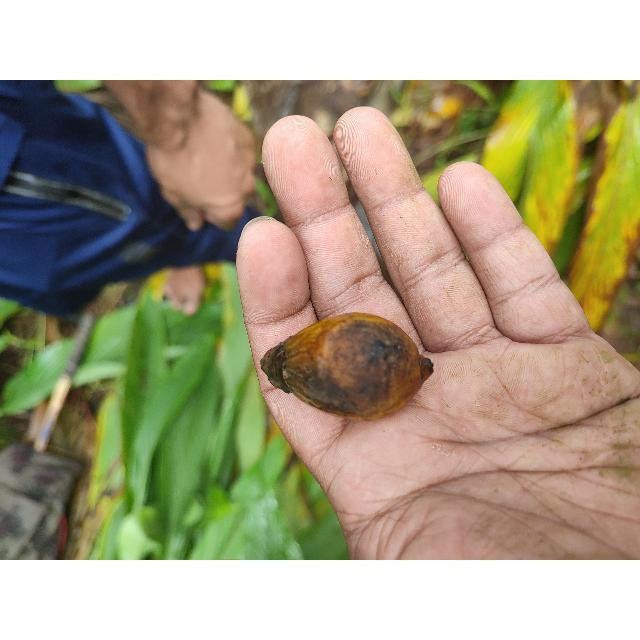damaged: (261, 313, 435, 423)
